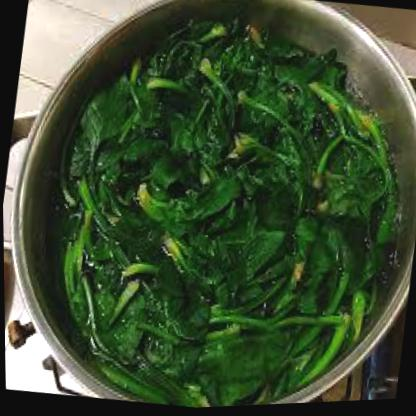spinach greens: (38, 0, 415, 408)
